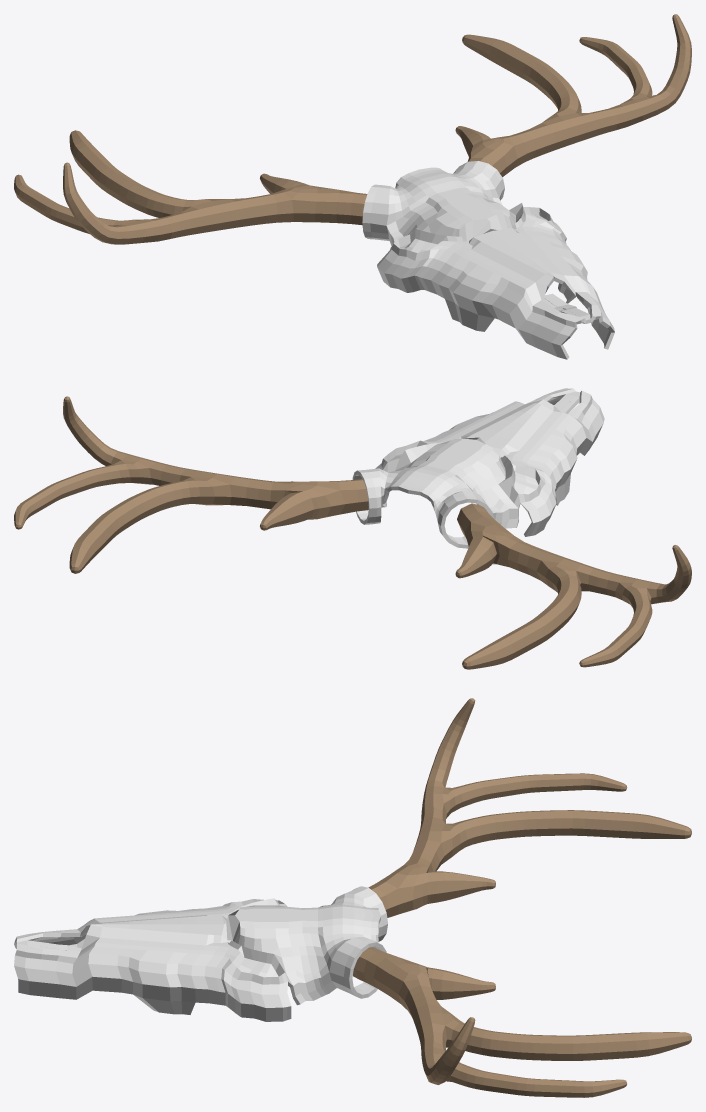
File: Deer_Skull.fbx
3 renders of one model, top to bottom at view 1: azimuth 30°, elevation 25°; view 2: azimuth 150°, elevation 25°; view 3: azimuth 270°, elevation 25°, orthographic. The views are drawn at different scales.
Visible parts, largest first — view 1: Cube.054; view 2: Cube.054; view 3: Cube.054.
Boxes of the visible parts, x1,y1,x2,y2 form: Cube.054: [14, 14, 691, 359]; Cube.054: [14, 388, 691, 669]; Cube.054: [14, 698, 691, 1097].
Bounding box in the file's own units: 434 × 79.54 × 379.
